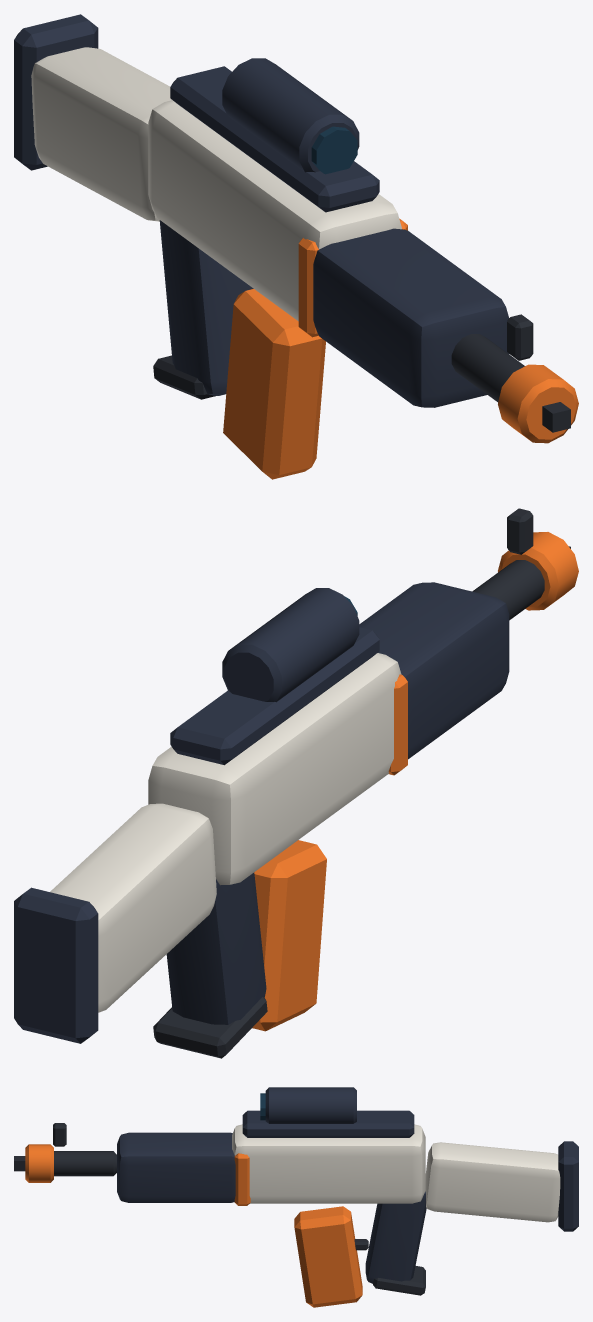
Rendered from wpn_carbine.fbx.
3 views of the same model, one above another, from view 1: azimuth 30°, elevation 25°; view 2: azimuth 150°, elevation 25°; view 3: azimuth 270°, elevation 25° (orthographic). The views are drawn at different scales.
Visible parts, largest first — view 1: Body, Muzzle; view 2: Body; view 3: Body.
Part boxes in pixels (box(x1,y1,x2,y2)): Body: box(14, 14, 578, 479); Muzzle: box(542, 402, 570, 432); Body: box(14, 508, 578, 1058); Body: box(25, 1087, 578, 1307).
Size of the model in its own units: 0.56 by 2.07 by 4.94.
Materials: 2 (1 with a texture image).
